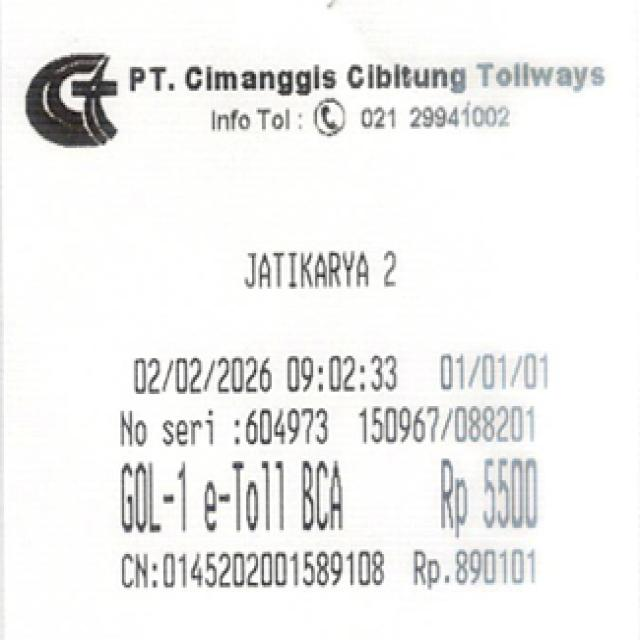date: (123, 352, 405, 396)
store: (123, 61, 611, 91)
total: (428, 454, 552, 531)
